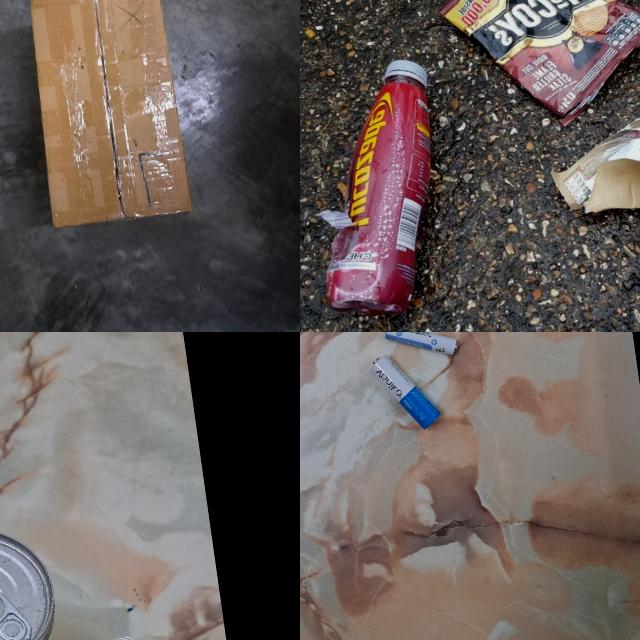aba de lata: (0, 585, 34, 640)
bateria: (368, 348, 446, 437), (382, 332, 460, 366)
garrafa plástica: (300, 73, 454, 325)
papelão: (22, 0, 194, 232), (543, 95, 640, 240)
tampa plástica: (379, 54, 427, 88)
